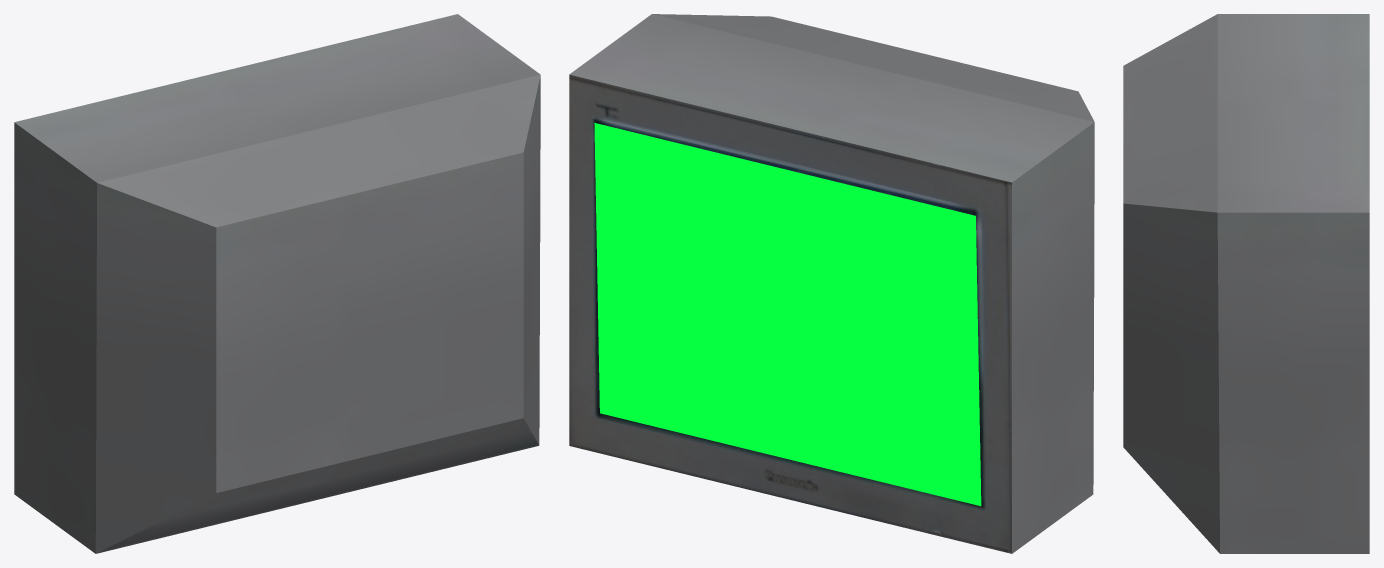
The picture shows the model from 3 angles, left to right: view 1: azimuth 30°, elevation 25°; view 2: azimuth 150°, elevation 25°; view 3: azimuth 270°, elevation 25°; orthographic projection. The views are drawn at different scales.
Parts seen in each view (by area): view 1: Cube.175; view 2: Cube.175; view 3: Cube.175.
Part boxes in pixels (x1,y1,x2,y2): Cube.175: (14, 14, 540, 553); Cube.175: (569, 14, 1094, 553); Cube.175: (1123, 14, 1369, 553).
Bounding box in the file's own units: 2.11 × 1.69 × 1.1.
Materials: 2 (1 with a texture image).
